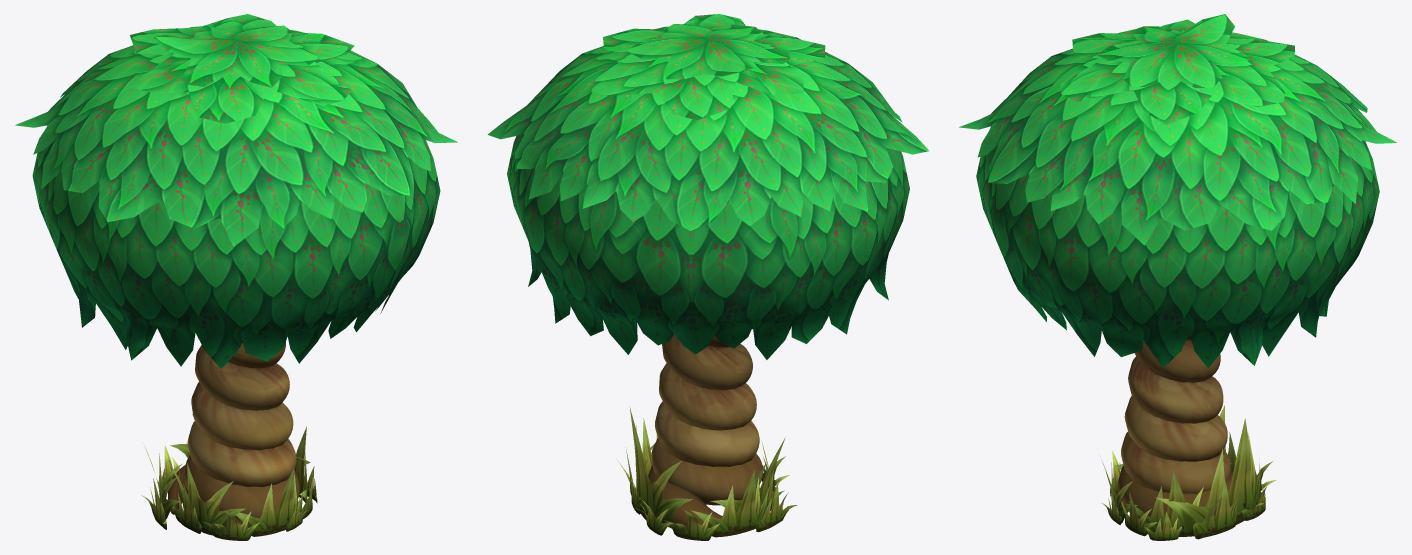
Rendered from strange_forest_tree01.fbx.
3 renders of one model, left to right at view 1: azimuth 30°, elevation 25°; view 2: azimuth 150°, elevation 25°; view 3: azimuth 270°, elevation 25°, orthographic.
Parts seen in each view (by area): view 1: strangeForestTree01; view 2: strangeForestTree01; view 3: strangeForestTree01.
Boxes of the visible parts, x1,y1,x2,y2 form: strangeForestTree01: [15, 14, 457, 540]; strangeForestTree01: [487, 14, 928, 540]; strangeForestTree01: [959, 14, 1397, 540].
Bounding box in the file's own units: 126 × 160 × 136.
1 material, 1 textured.
